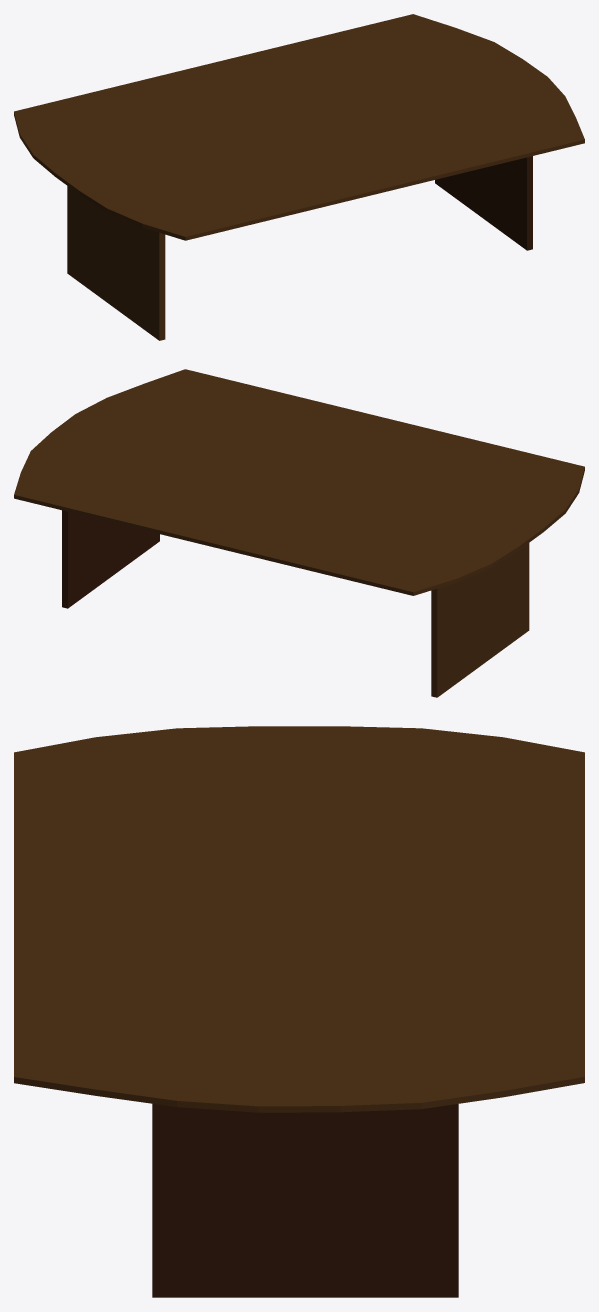
File: TavoloPranzo.dae
3 views of the same model, one above another, from view 1: azimuth 30°, elevation 25°; view 2: azimuth 150°, elevation 25°; view 3: azimuth 270°, elevation 25° (orthographic). The views are drawn at different scales.
Visible parts, largest first — view 1: TavoloPranzo2, Cube_020, Cube_001_001; view 2: TavoloPranzo2, Cube_020, Cube_001_001; view 3: TavoloPranzo2, Cube_001_001.
Part boxes in pixels (bbox=[...]): TavoloPranzo2: bbox=[14, 14, 584, 240]; Cube_020: bbox=[67, 186, 165, 340]; Cube_001_001: bbox=[435, 156, 532, 250]; TavoloPranzo2: bbox=[14, 369, 584, 595]; Cube_020: bbox=[431, 543, 529, 697]; Cube_001_001: bbox=[62, 510, 159, 608]; TavoloPranzo2: bbox=[14, 726, 584, 1112]; Cube_001_001: bbox=[152, 1103, 458, 1297].
Bounding box in the file's own units: 2.6 × 1.65 × 0.7308.
